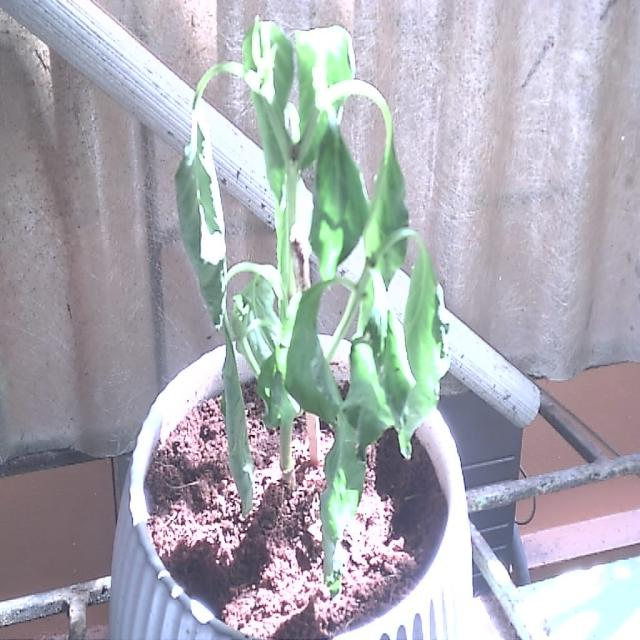Leaf: (176, 106, 227, 332), (309, 120, 369, 285), (281, 269, 345, 423), (212, 324, 255, 512), (403, 236, 452, 397)
